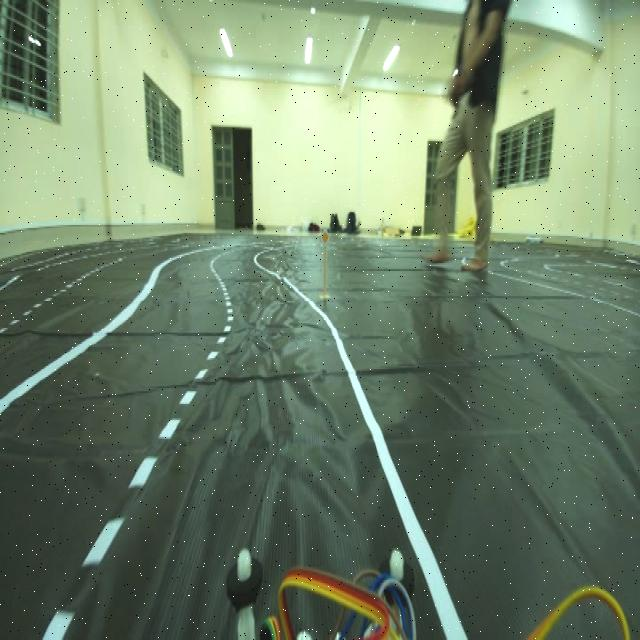priority: (320, 226, 332, 246)
